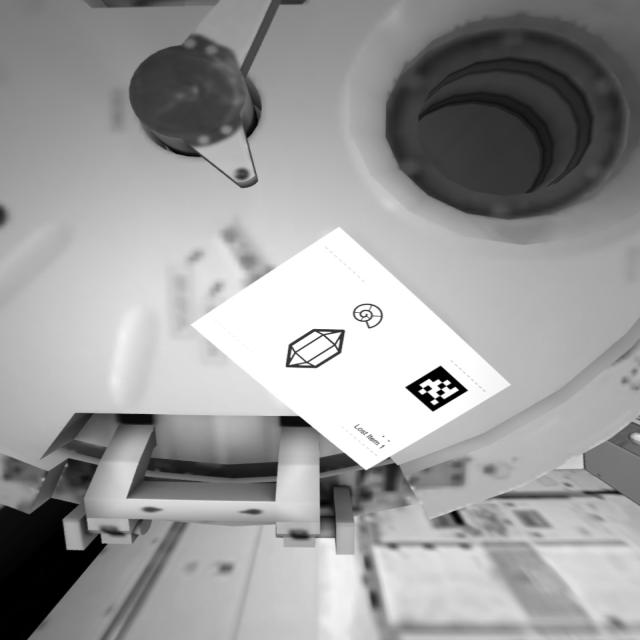crystal: (284, 328, 352, 371)
fossil: (350, 302, 389, 331)
